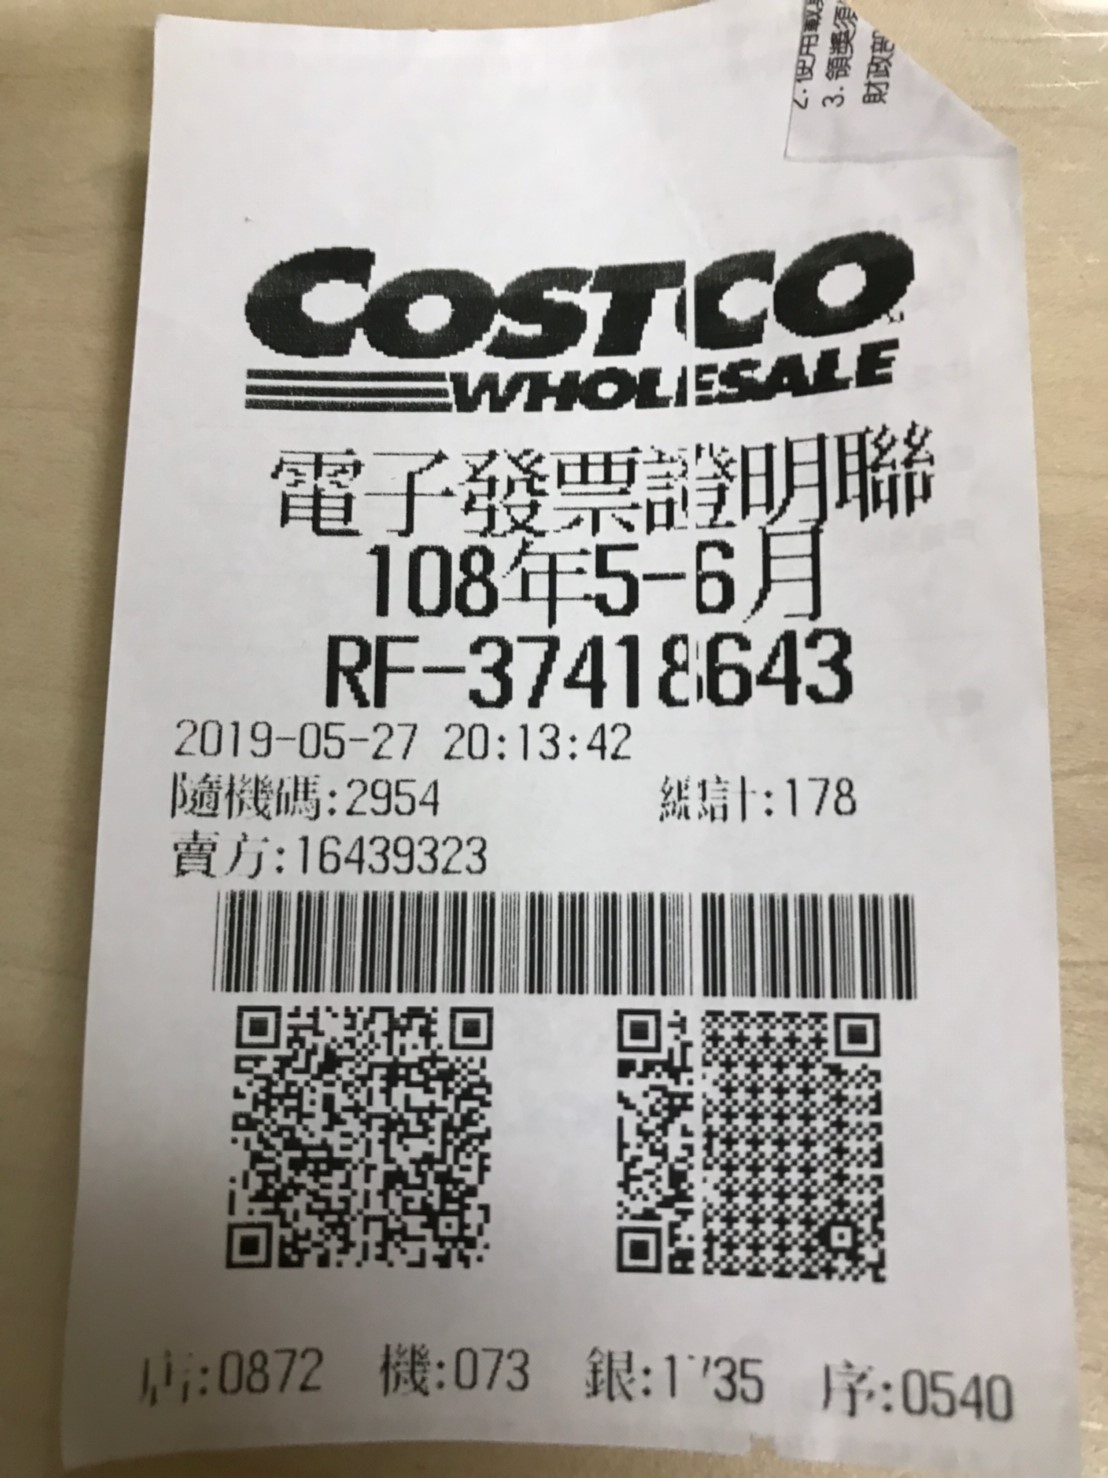Date_New: (358, 527, 829, 620)
Number_New: (463, 632, 853, 713)
